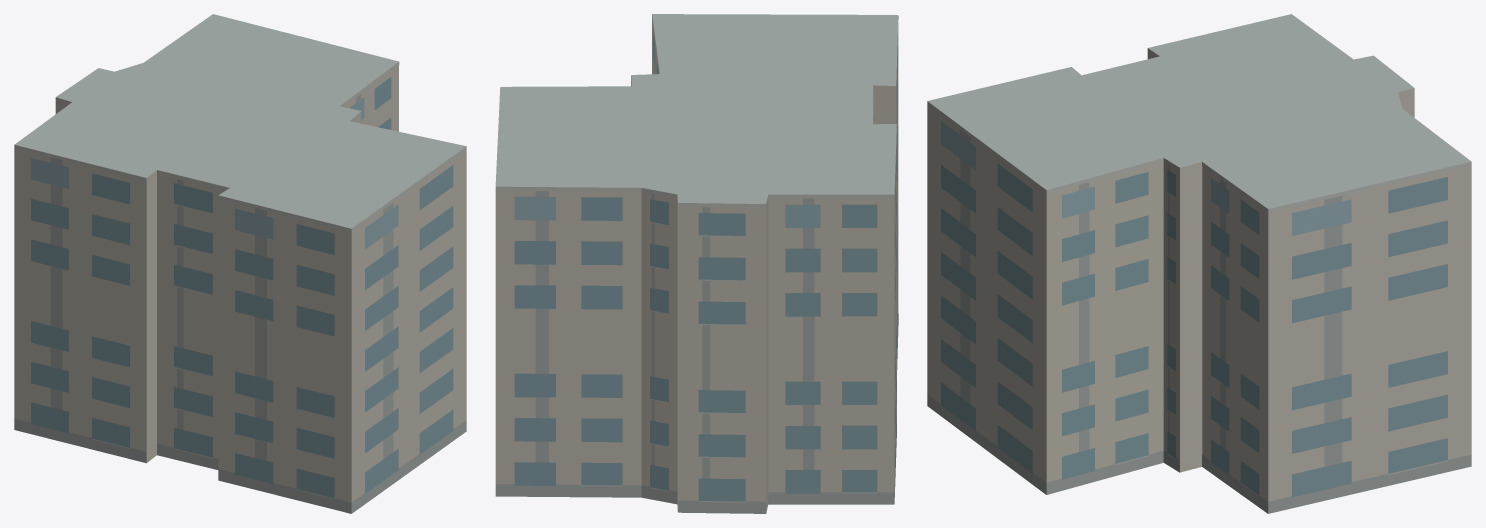
Rendered from survey-upis-32696164.glb.
The picture shows the model from 3 angles, left to right: view 1: azimuth 30°, elevation 25°; view 2: azimuth 150°, elevation 25°; view 3: azimuth 270°, elevation 25°; orthographic projection. The views are drawn at different scales.
Parts seen in each view (by area): view 1: survey-upis-32696164.tmp; view 2: survey-upis-32696164.tmp; view 3: survey-upis-32696164.tmp.
Part boxes in pixels (x1,y1,x2,y2): survey-upis-32696164.tmp: (14,14,466,513); survey-upis-32696164.tmp: (495,14,898,513); survey-upis-32696164.tmp: (927,14,1471,513).
Bounding box in the file's own units: 26.21 × 19.1 × 30.92.
